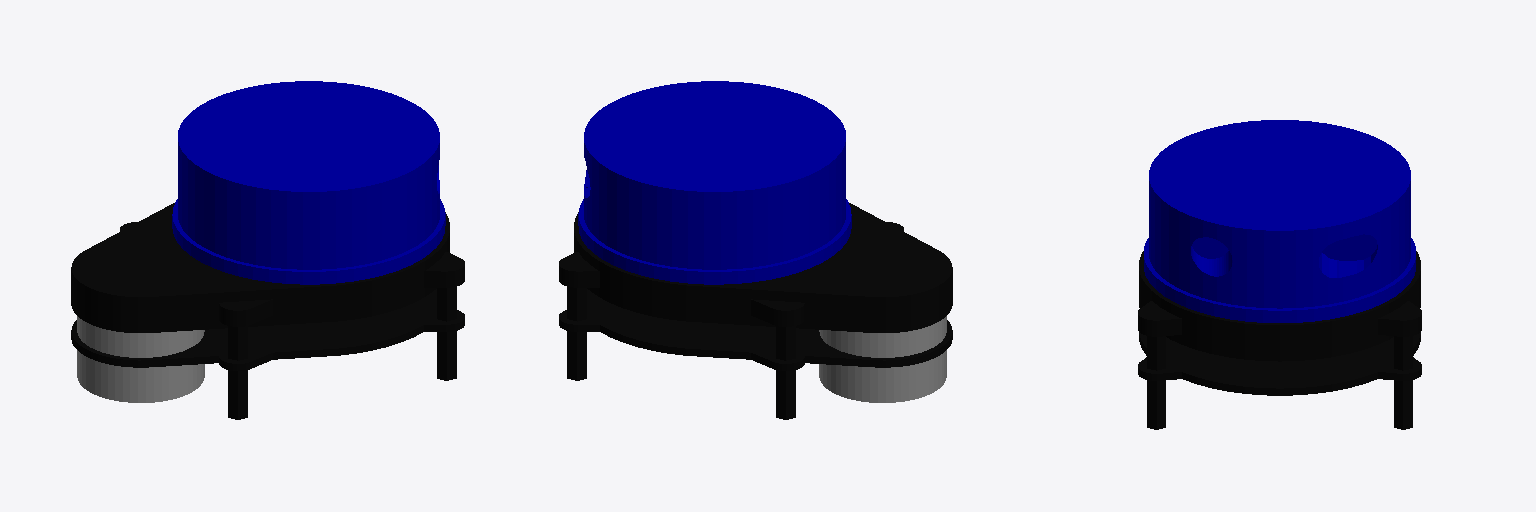
Rendered from mushr_nano_lidar.obj.
3 views of the same model, side by side, from view 1: azimuth 30°, elevation 25°; view 2: azimuth 150°, elevation 25°; view 3: azimuth 270°, elevation 25° (orthographic).
Visible parts, largest first — view 1: Racecar_Ydlidar_Top, Racecar_Ydlidar_Mount_Racecar_Ydlidar_Mount.001, Racecar_Ydlidar_Motor; view 2: Racecar_Ydlidar_Top, Racecar_Ydlidar_Mount_Racecar_Ydlidar_Mount.001, Racecar_Ydlidar_Motor; view 3: Racecar_Ydlidar_Top, Racecar_Ydlidar_Mount_Racecar_Ydlidar_Mount.001.
Boxes of the visible parts, <box> form: Racecar_Ydlidar_Top: <box>172,81,445,284</box>; Racecar_Ydlidar_Mount_Racecar_Ydlidar_Mount.001: <box>71,203,464,419</box>; Racecar_Ydlidar_Motor: <box>77,316,204,402</box>; Racecar_Ydlidar_Top: <box>578,81,851,284</box>; Racecar_Ydlidar_Mount_Racecar_Ydlidar_Mount.001: <box>559,203,952,419</box>; Racecar_Ydlidar_Motor: <box>819,316,946,402</box>; Racecar_Ydlidar_Top: <box>1144,120,1415,322</box>; Racecar_Ydlidar_Mount_Racecar_Ydlidar_Mount.001: <box>1138,251,1421,429</box>.
Bounding box in the file's own units: 1.02 × 0.59 × 0.7148.